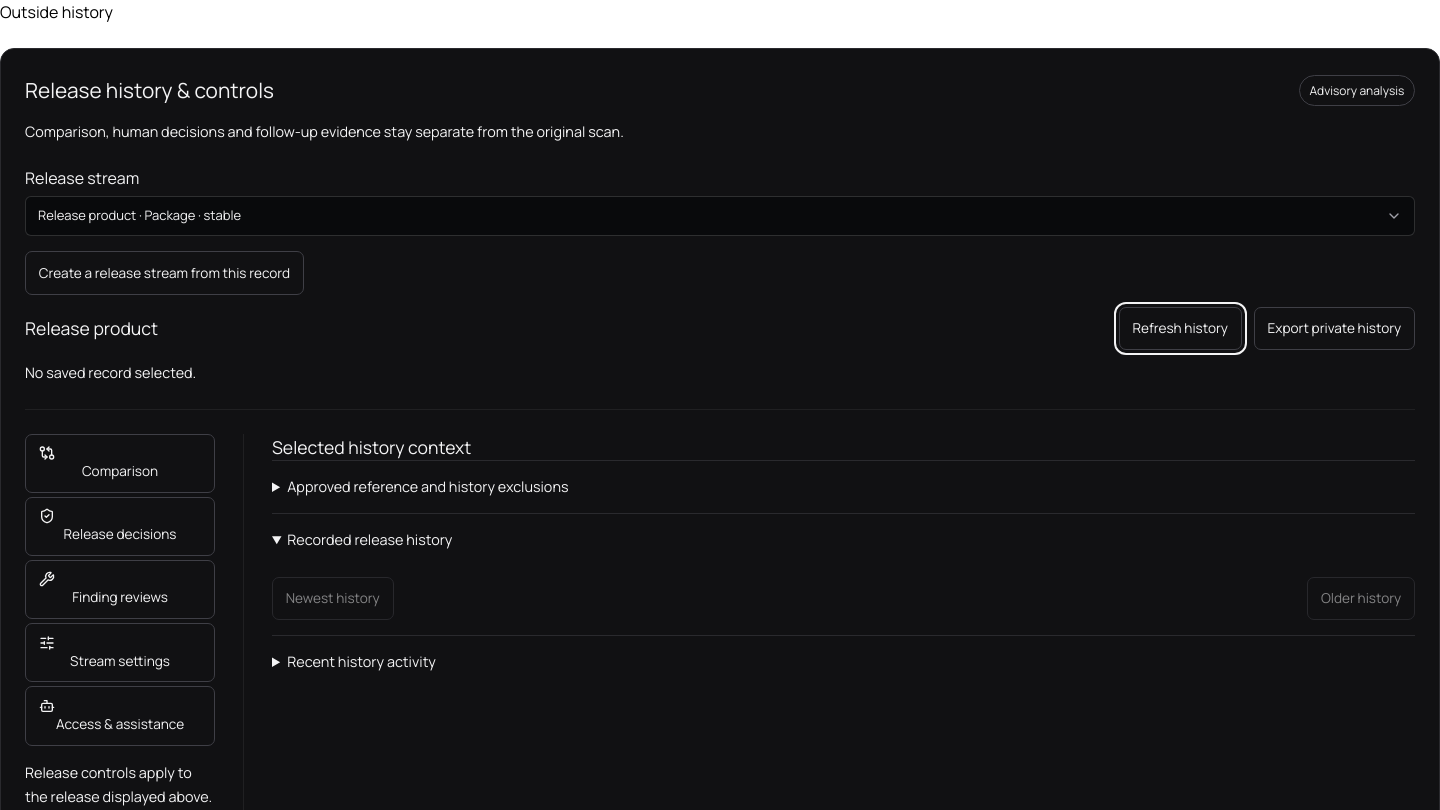
Scenario: does not steal focus after the customer has left the history panel during a failed request
The width and height of the screenshot is (1440, 810).
Click the button "Refresh history" at (1180, 328), box [1119,307,1242,350]
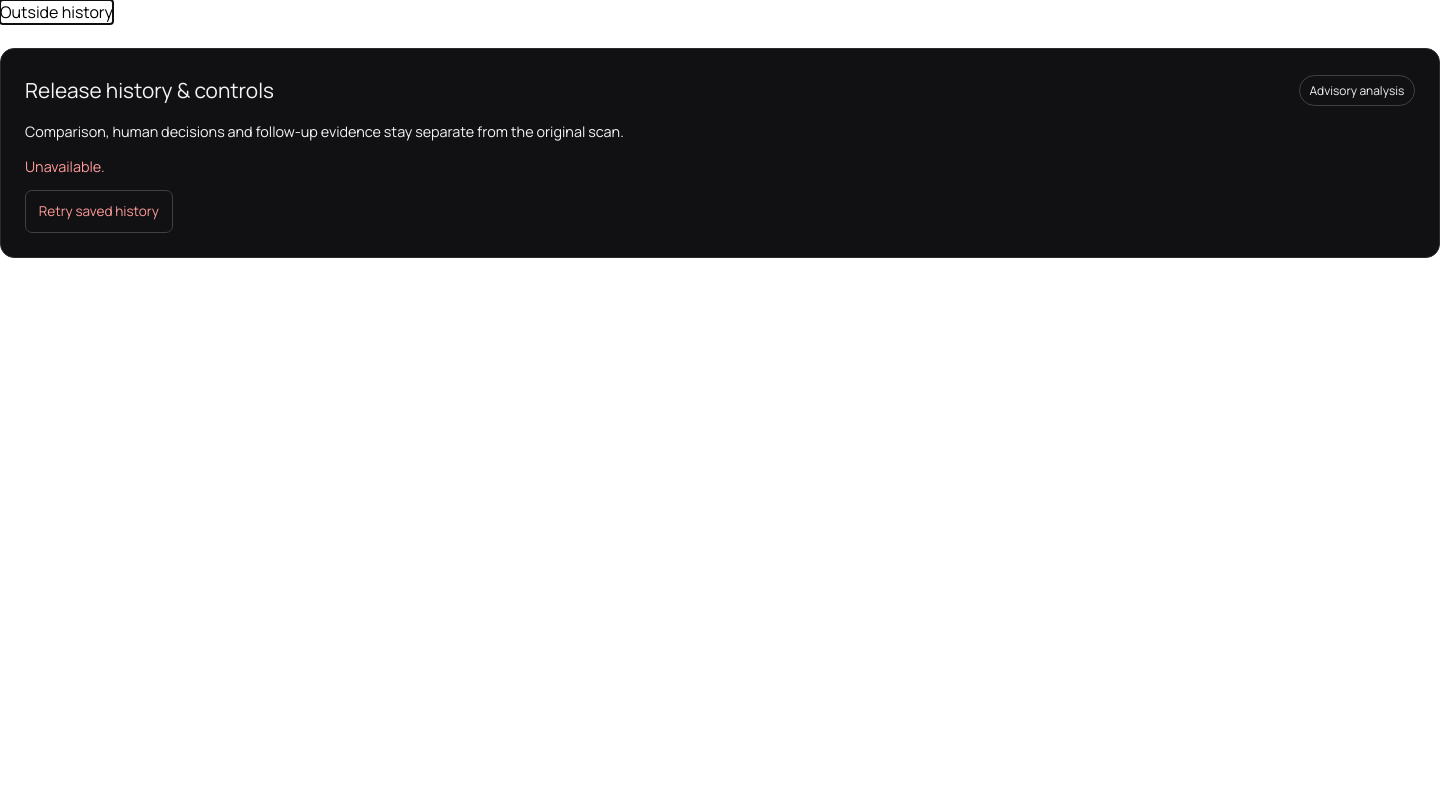
Check: the message "Unavailable. Retry saved history" is shown, box [25,157,173,233]
